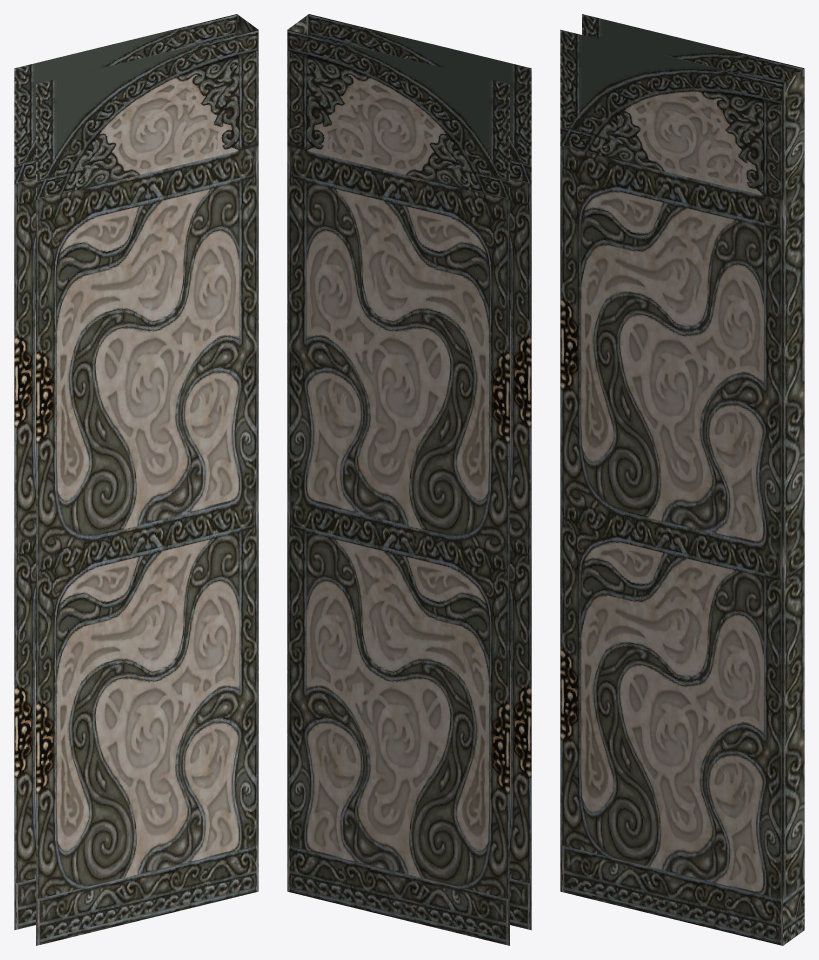
Rendered from INST_EKH_DOORRT.fbx.
3 views of the same model, side by side, from view 1: azimuth 30°, elevation 25°; view 2: azimuth 150°, elevation 25°; view 3: azimuth 330°, elevation 25° (orthographic).
Parts seen in each view (by area): view 1: INST_EKH_DOORRT; view 2: INST_EKH_DOORRT; view 3: INST_EKH_DOORRT.
Boxes of the visible parts, left/top/right/bottom form: INST_EKH_DOORRT: left=14, top=14, right=258, bottom=945; INST_EKH_DOORRT: left=287, top=14, right=531, bottom=945; INST_EKH_DOORRT: left=560, top=14, right=804, bottom=945.
Size of the model in its own units: 21400 by 79176 by 3576.
3 materials, 3 textured.
